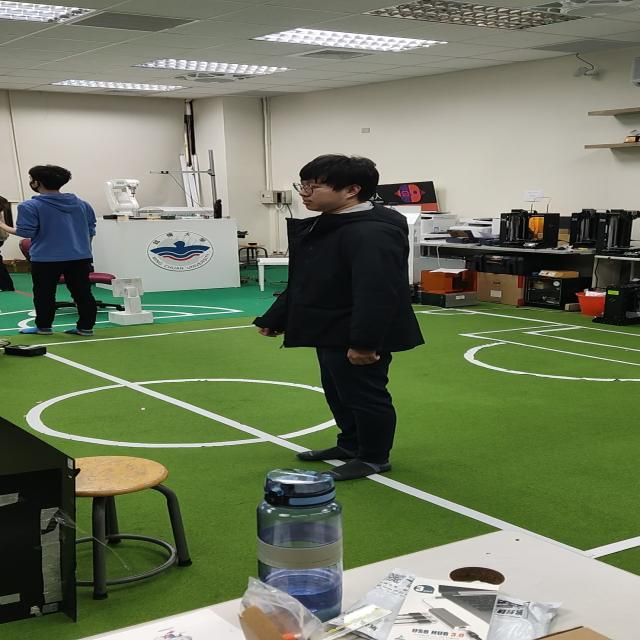person: (247, 144, 429, 464), (10, 150, 118, 339)
